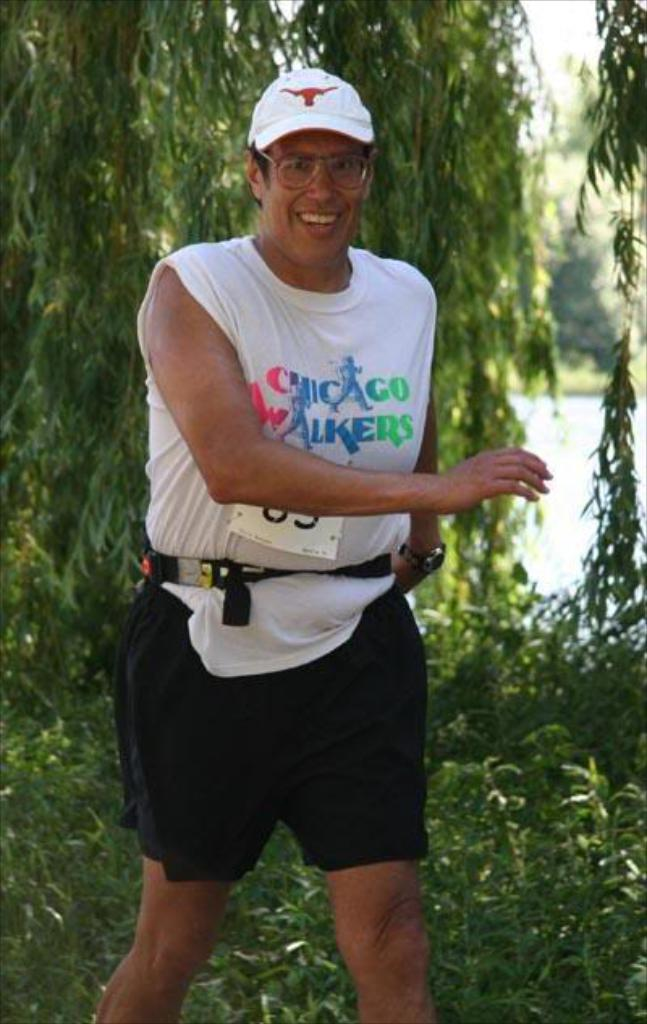Tree: (0, 0, 638, 773)
